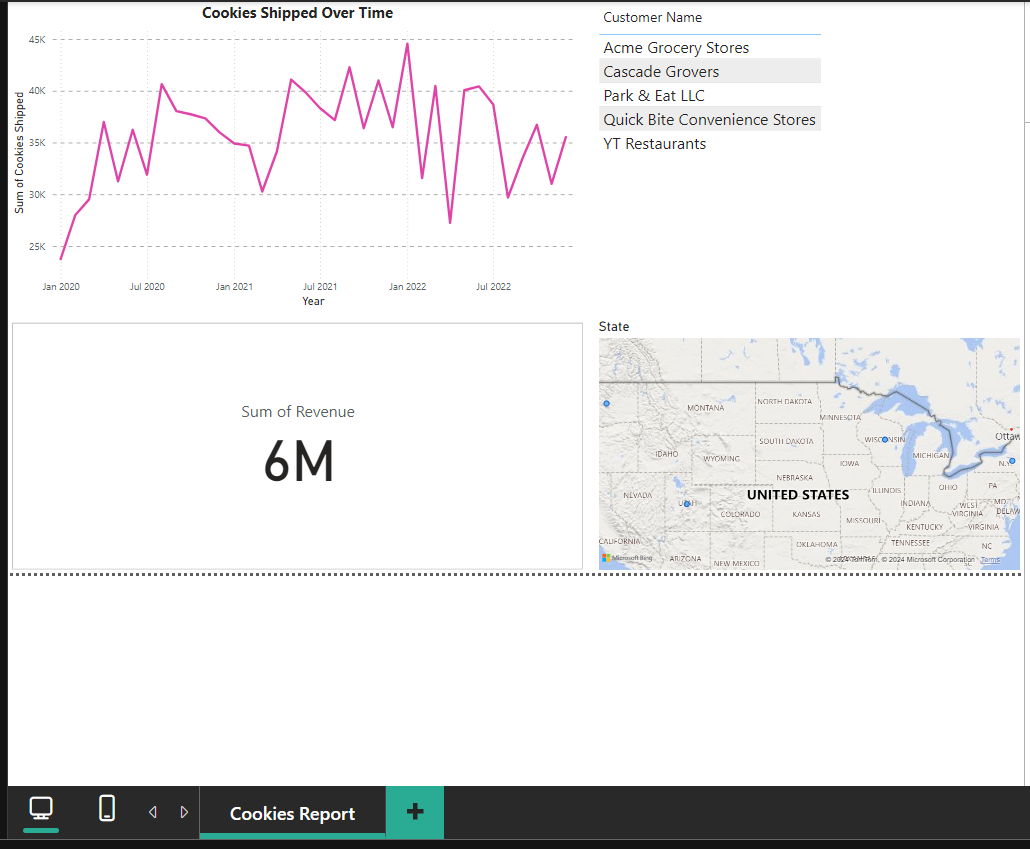

What the dashboard file says about the page in this screenshot:
{"tool":"powerbi","page":{"name":"Cookies Report","canvas":[1280,720],"ordinal":0},"visuals":[{"type":"lineChart","title":"Cookies Shipped Over Time","fields":{"Y":["Sum(Orders1.Cookies Shipped)"],"Category":["Orders1.Order Date.Variation.Date Hierarchy.Year","Orders1.Order Date.Variation.Date Hierarchy.Quarter","Orders1.Order Date.Variation.Date Hierarchy.Month","Orders1.Order Date.Variation.Date Hierarchy.Day"]},"box":[0,0,729.5,389.3],"z":0},{"type":"cardVisual","title":"Total Revenue","fields":{"Data":["Sum(Orders1.Revenue)"]},"box":[0,398.7,729.5,321.3],"z":1000},{"type":"tableEx","fields":{"Values":["Customers2.Customer Name"]},"box":[739,0,541,389],"z":2000},{"type":"map","fields":{"Category":["Customers2.State"]},"box":[739,399,541,321],"z":3000}]}

Visuals, with their boxes on the page's 1280x720 design canvas (x1, y1, x2, y2). These are canvas units, not pixel positions in the 1030x849 screenshot, which may show the page scaled, cropped or inside an application window:
"Cookies Shipped Over Time" lineChart: left=0, top=0, right=730, bottom=389
"Total Revenue" cardVisual: left=0, top=399, right=730, bottom=720
tableEx - Customers2.Customer Name: left=739, top=0, right=1280, bottom=389
map - Customers2.State: left=739, top=399, right=1280, bottom=720
